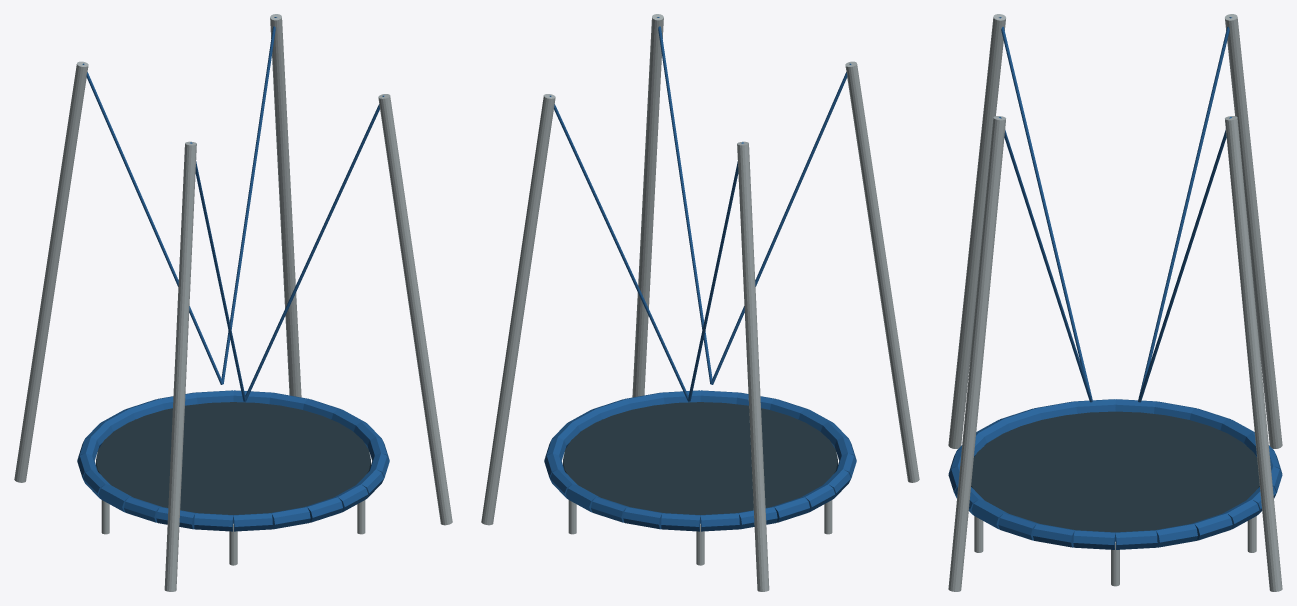
Rendered from scendance-plan-bungee-trampoline.glb.
3 views of the same model, side by side, from view 1: azimuth 30°, elevation 25°; view 2: azimuth 150°, elevation 25°; view 3: azimuth 270°, elevation 25° (orthographic). The views are drawn at different scales.
Size of the model in its own units: 3.63 by 5.12 by 3.43.
